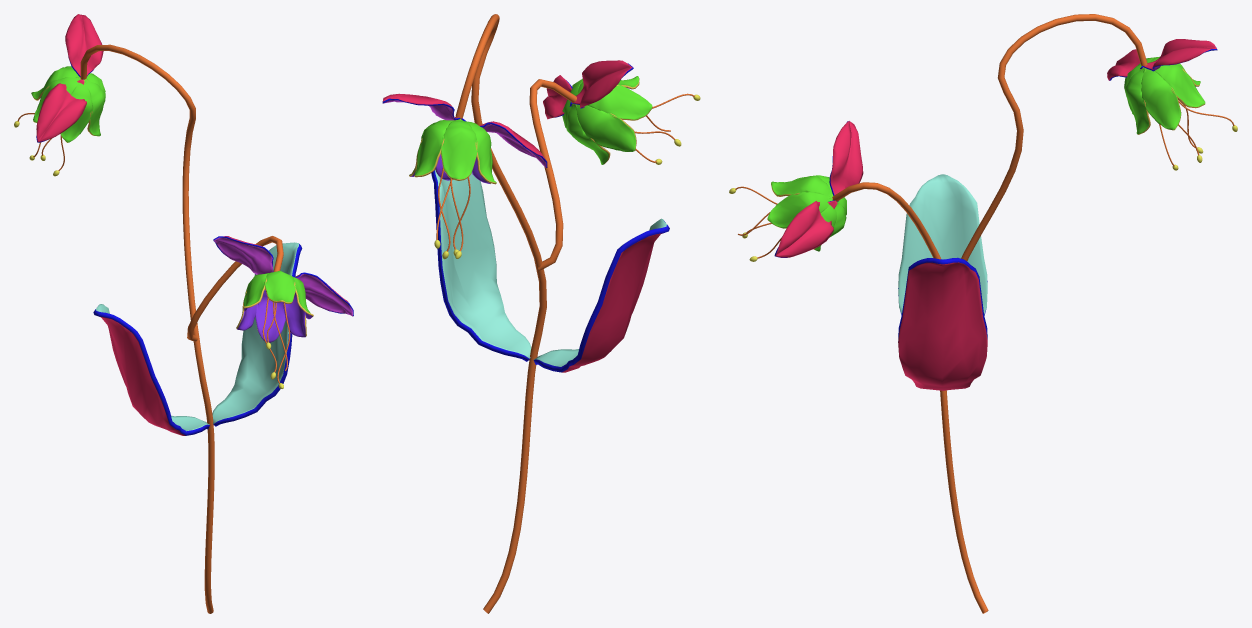
Rendered from FlowerPlant1TR.fbx.
3 renders of one model, left to right at view 1: azimuth 30°, elevation 25°; view 2: azimuth 150°, elevation 25°; view 3: azimuth 270°, elevation 25°, orthographic. The views are drawn at different scales.
Visible parts, largest first — view 1: Circle.061, BézierCurve.068, Circle.064, Circle.062, Circle.063, Circle.060; view 2: Circle.061, BézierCurve.068, Circle.064, Circle.060, Circle.063, Circle.062; view 3: Circle.061, BézierCurve.068, Circle.060, Circle.063, Circle.064, Circle.062.
Boxes of the visible parts, x1,y1,x2,y2 form: Circle.061: [93, 242, 302, 435]; BézierCurve.068: [17, 44, 290, 613]; Circle.064: [236, 270, 313, 342]; Circle.062: [36, 14, 103, 142]; Circle.063: [213, 236, 353, 316]; Circle.060: [31, 66, 105, 142]; Circle.061: [431, 169, 669, 372]; BézierCurve.068: [436, 14, 694, 613]; Circle.064: [562, 76, 652, 164]; Circle.060: [409, 119, 496, 184]; Circle.063: [543, 60, 633, 119]; Circle.062: [382, 93, 547, 168]; Circle.061: [898, 174, 987, 390]; BézierCurve.068: [735, 14, 1234, 613]; Circle.060: [1124, 56, 1205, 134]; Circle.063: [774, 121, 863, 257]; Circle.064: [767, 175, 846, 251]; Circle.062: [1107, 39, 1217, 80].
Size of the model in its own units: 1820 by 4571 by 3655.
